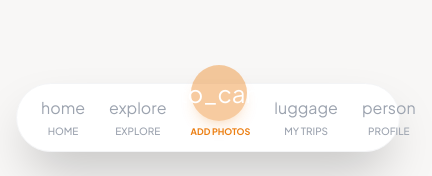
it: BottomNav › center button - trip page, non-member logged-in user › shows member-only popover when non-member logged-in user clicks center button
Click the button labelled "photo_camera ADD PHOTOS" at (220, 102), box [191, 65, 250, 138]
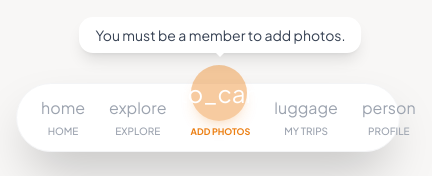
Expected: the tooltip "You must be a member to add photos." is shown, [79, 17, 361, 53]
